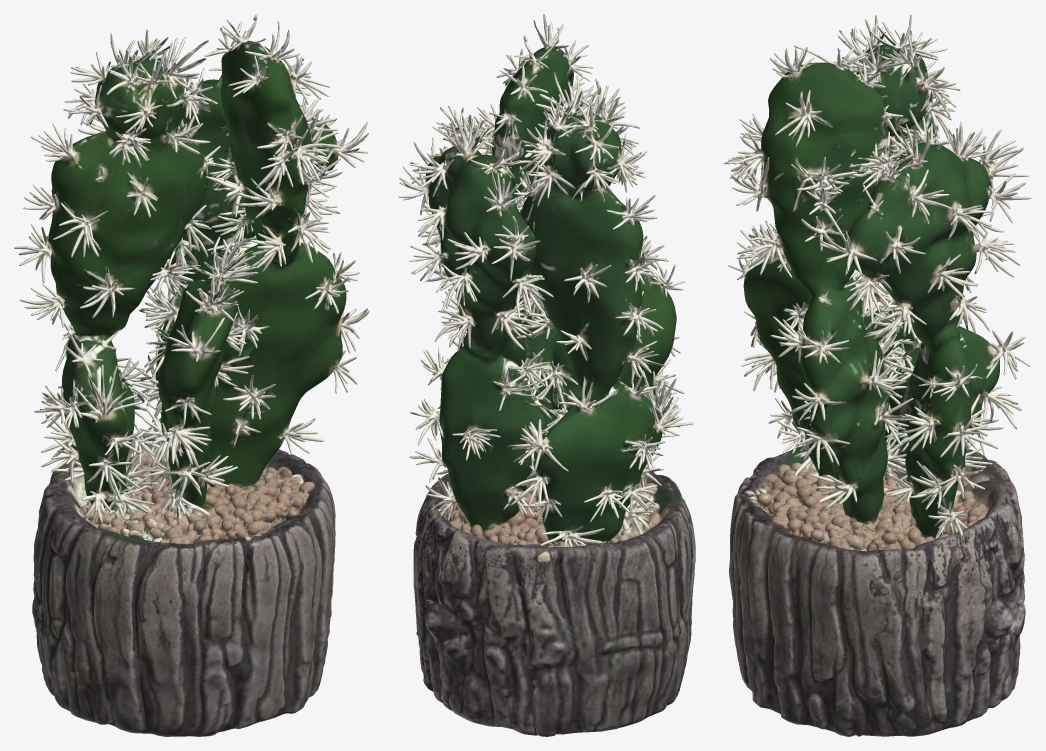
Rendered from kaktus-01.glb.
3 renders of one model, left to right at view 1: azimuth 30°, elevation 25°; view 2: azimuth 150°, elevation 25°; view 3: azimuth 270°, elevation 25°, orthographic. The views are drawn at different scales.
Bounding box in the file's own units: 0.9114 × 1.9 × 0.7948.
1 material, 1 textured.
